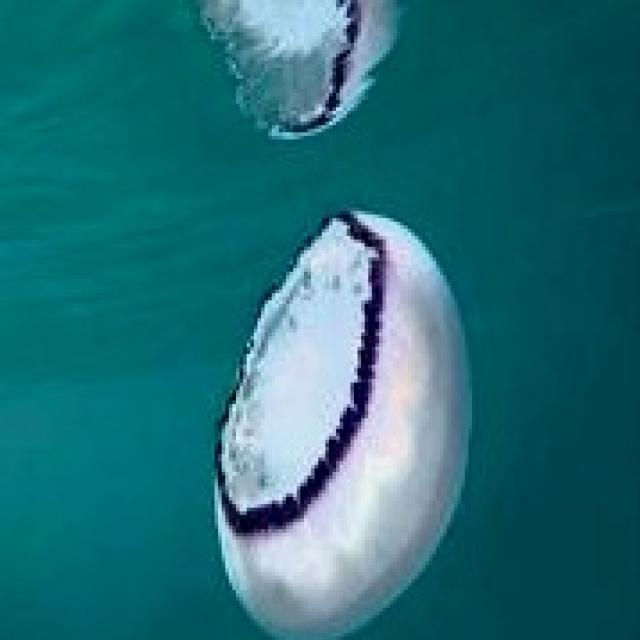Box-jellyfish: (211, 204, 472, 636)
